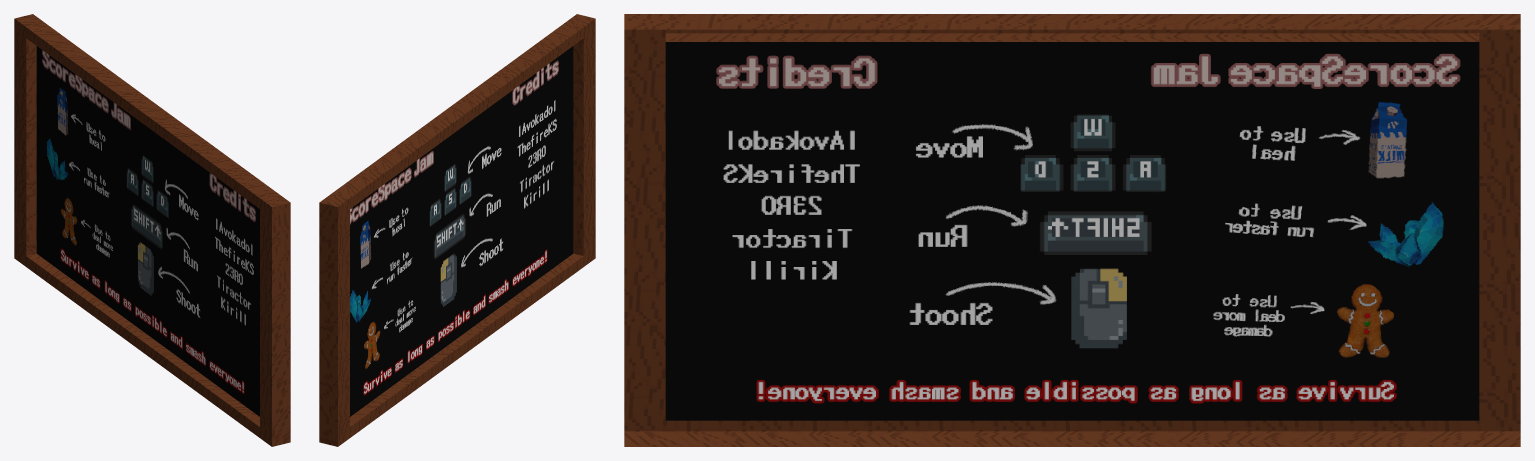
File: Creditboard.fbx
The picture shows the model from 3 angles, left to right: view 1: azimuth 30°, elevation 25°; view 2: azimuth 150°, elevation 25°; view 3: azimuth 270°, elevation 25°; orthographic projection. The views are drawn at different scales.
Visible parts, largest first — view 1: pCube46; view 2: pCube46; view 3: pCube46.
Part boxes in pixels (<box>): pCube46: <box>14,14,290,446</box>; pCube46: <box>319,14,595,446</box>; pCube46: <box>624,14,1520,446</box>.
Size of the model in its own units: 0.9013 by 11.1 by 21.61.
